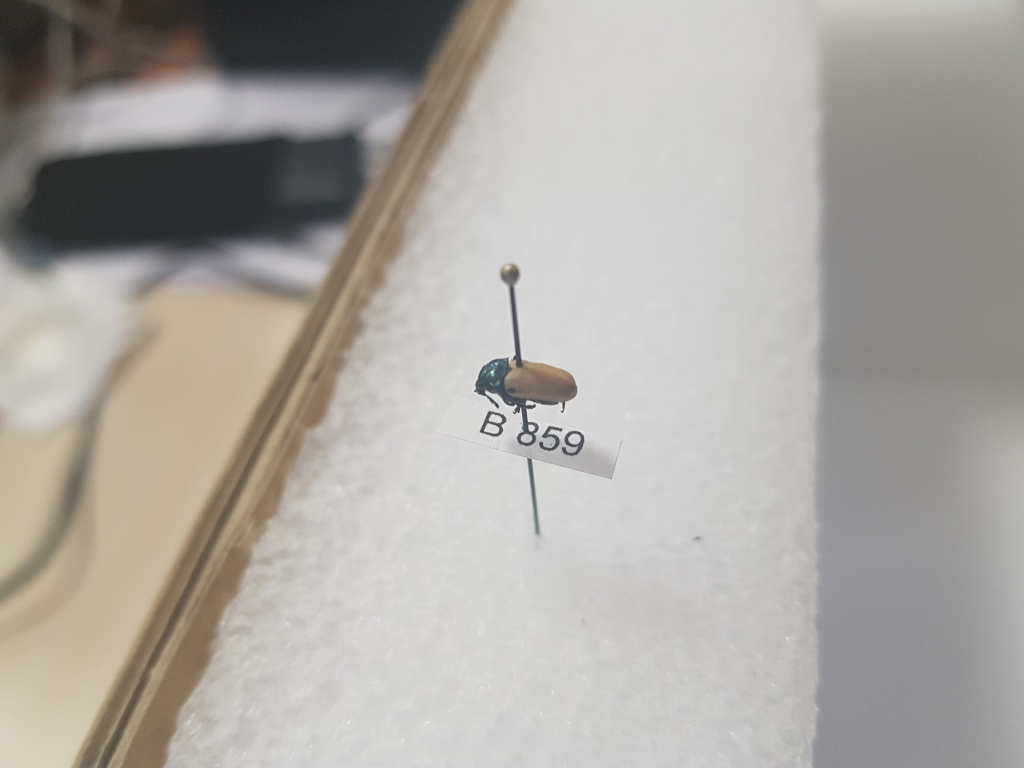Labidostomis_longimana: (462, 352, 582, 417)
